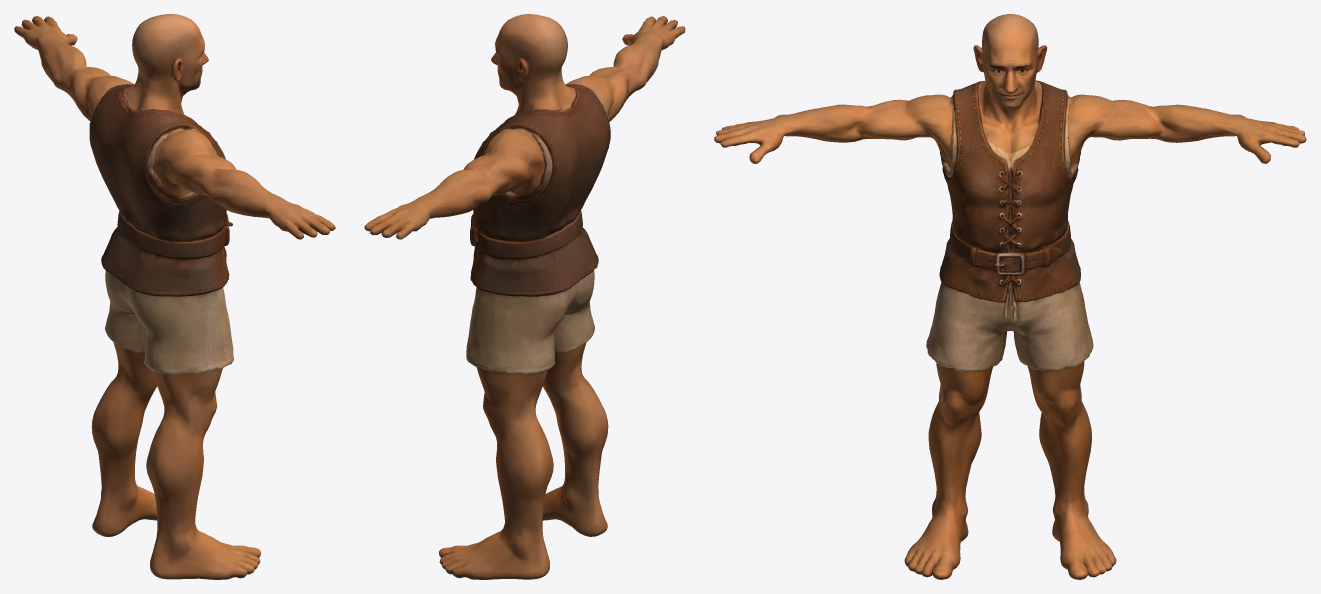
3 views of the same model, side by side, from view 1: azimuth 30°, elevation 25°; view 2: azimuth 150°, elevation 25°; view 3: azimuth 270°, elevation 25° (orthographic).
Visible parts, largest first — view 1: tripo_node_3ffdd3c7-0cf7-4ab0-b331-b32f0b21df64; view 2: tripo_node_3ffdd3c7-0cf7-4ab0-b331-b32f0b21df64; view 3: tripo_node_3ffdd3c7-0cf7-4ab0-b331-b32f0b21df64.
Part boxes in pixels (x1,y1,x2,y2): tripo_node_3ffdd3c7-0cf7-4ab0-b331-b32f0b21df64: (14,14,335,579); tripo_node_3ffdd3c7-0cf7-4ab0-b331-b32f0b21df64: (364,14,685,579); tripo_node_3ffdd3c7-0cf7-4ab0-b331-b32f0b21df64: (714,14,1306,579).
Bounding box in the file's own units: 0.2216 × 1 × 0.9997.
1 material, 1 textured.
